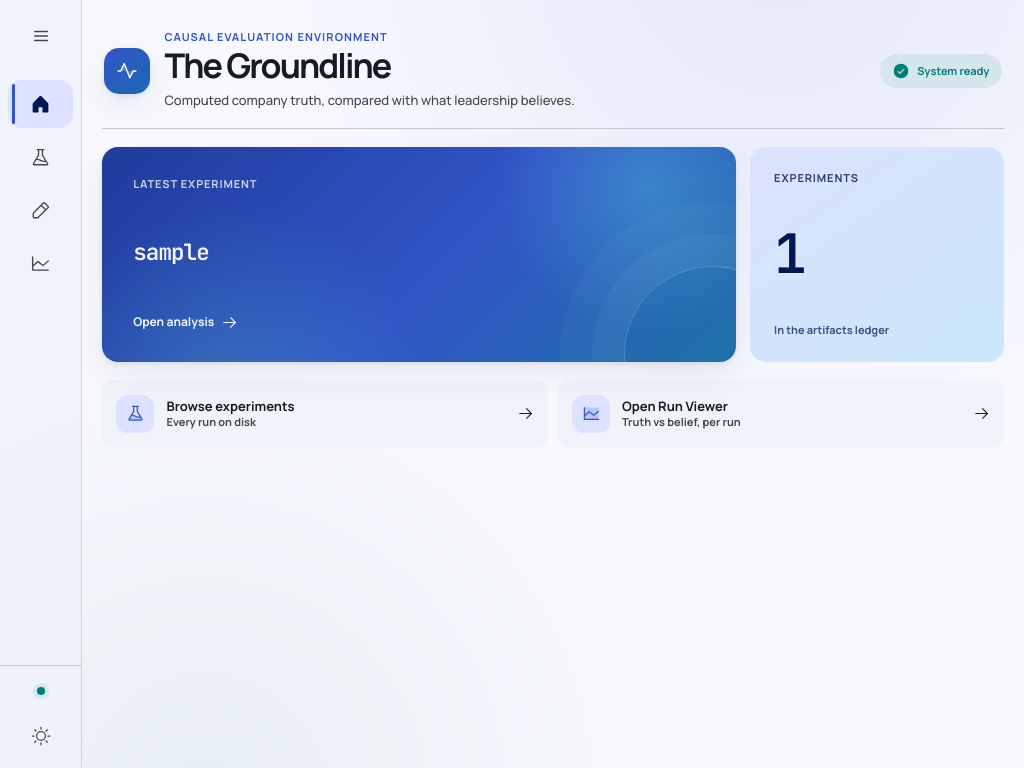
Test: App run identity and states › ignores stale success responses after the selected run changes
Click the button named "Run Viewer" at (40, 263), box [8,239,73,287]
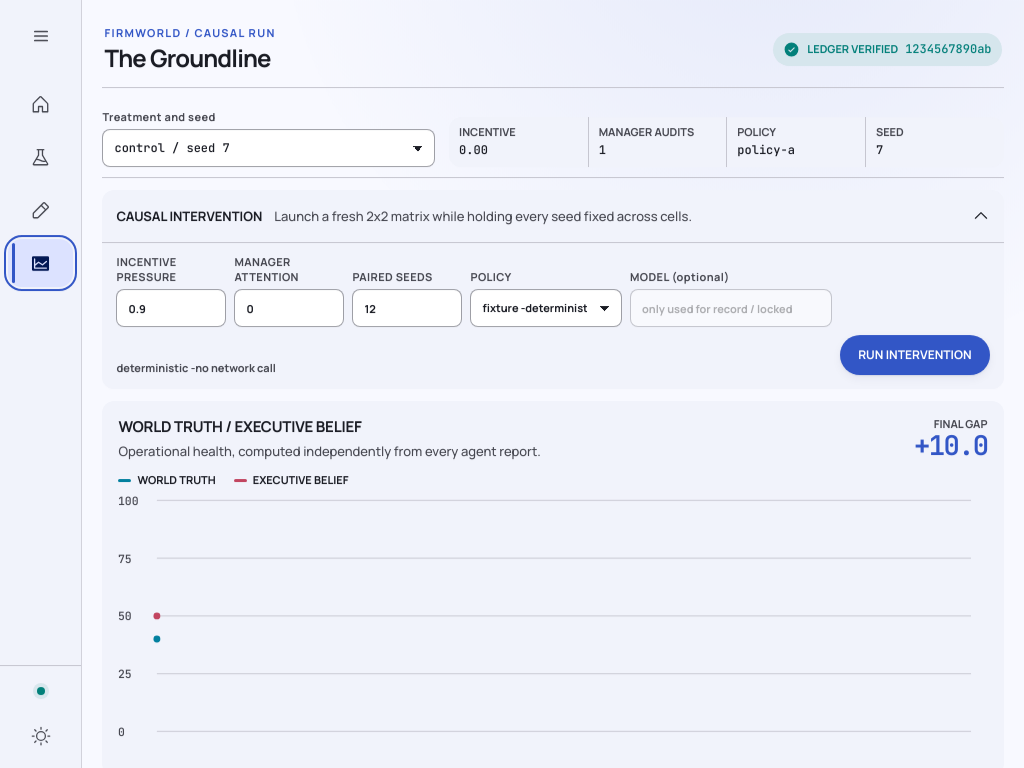
Expected: the text "policy-a" is shown, [737,142,795,158]
Select "intervention / seed 11" in the dropdown labelled "Treatment and seed" at (269, 148), box [102,129,435,167]
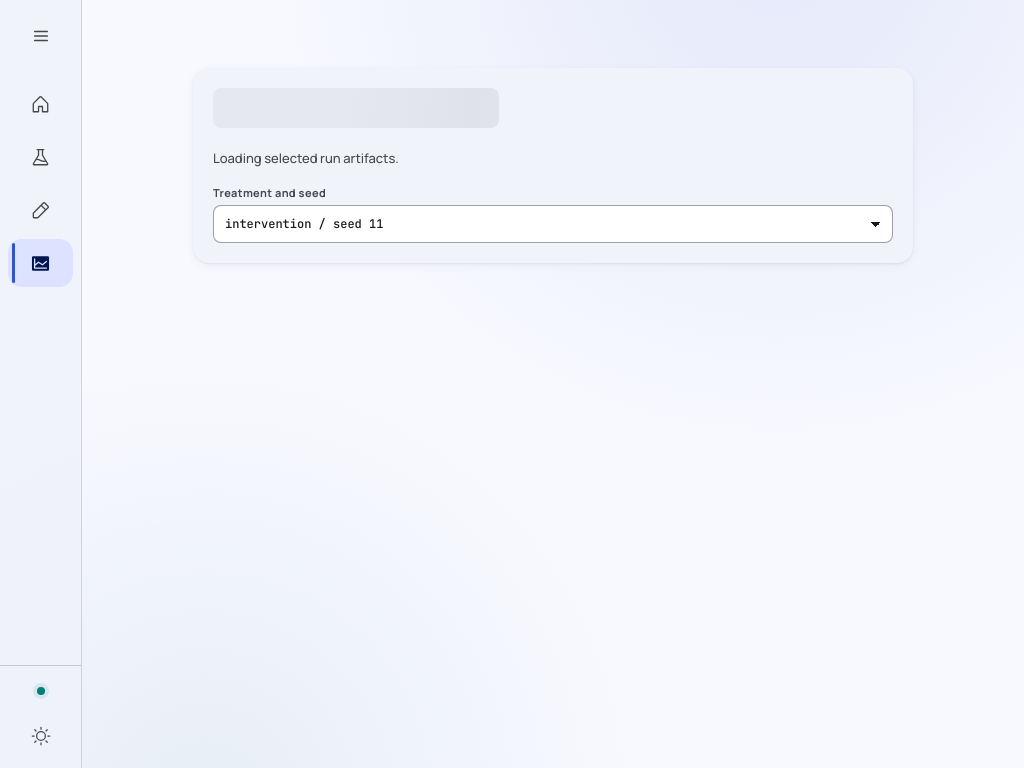
Select "control / seed 7" in the dropdown labelled "Treatment and seed" at (553, 224), box [213,205,893,243]
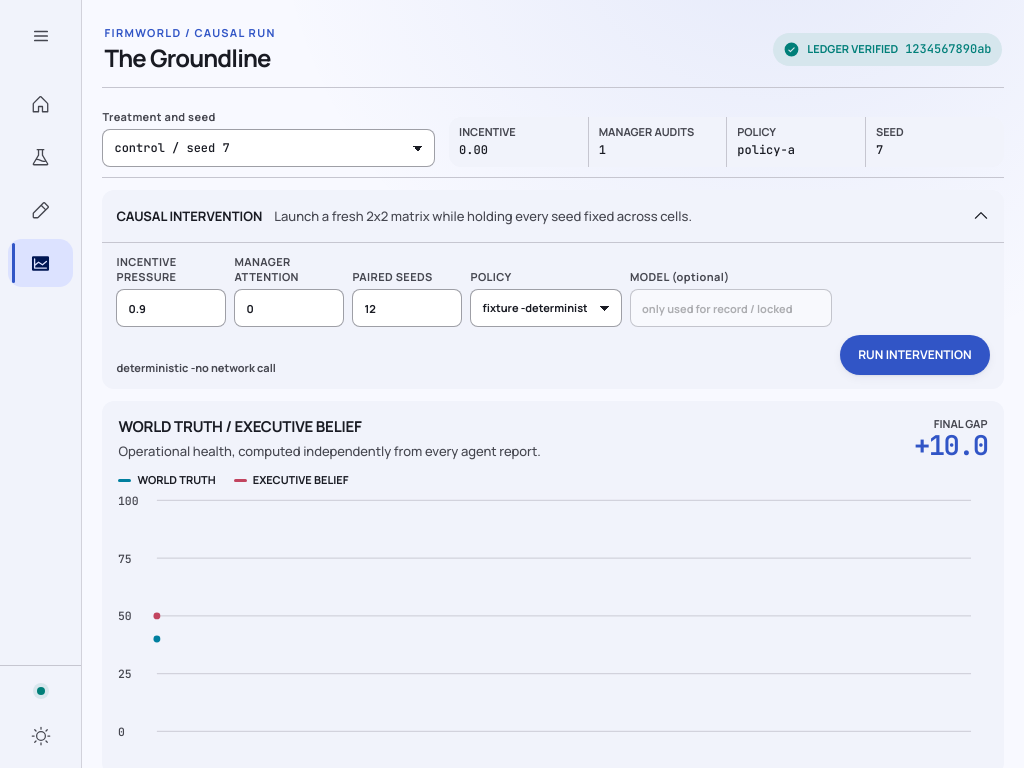
Expected: the text "policy-a" is shown, [737,142,795,158]
